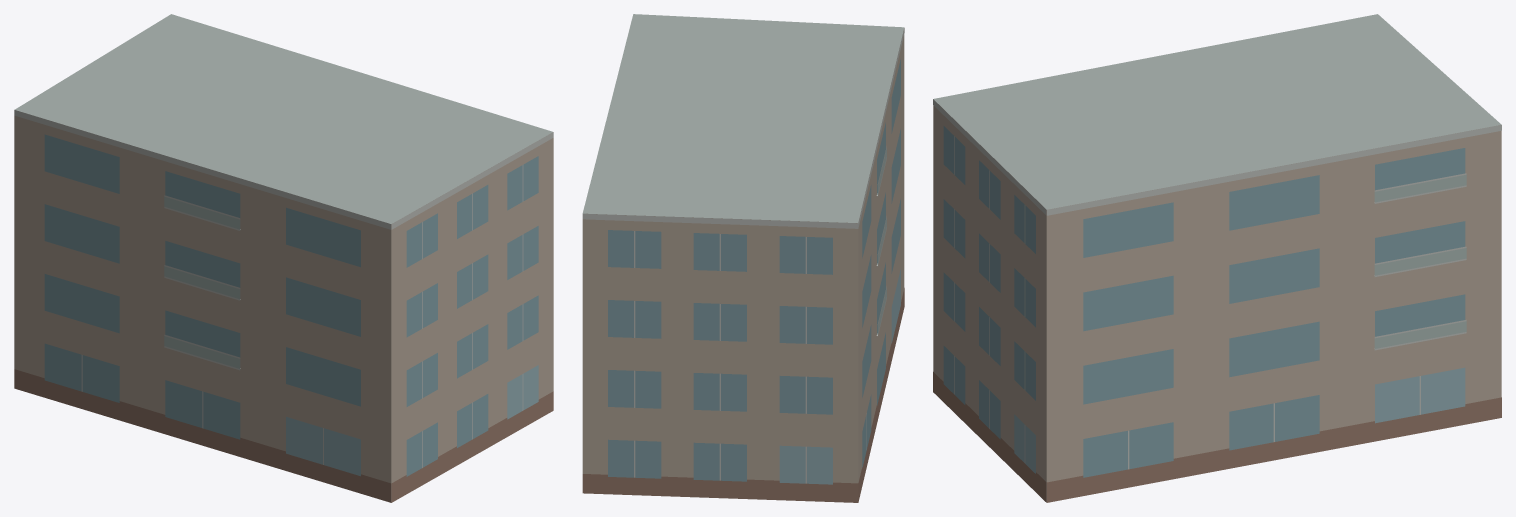
The model's file is survey-upis-32731923.glb.
3 views of the same model, side by side, from view 1: azimuth 30°, elevation 25°; view 2: azimuth 150°, elevation 25°; view 3: azimuth 270°, elevation 25° (orthographic). The views are drawn at different scales.
Parts seen in each view (by area): view 1: survey-upis-32731923.tmp; view 2: survey-upis-32731923.tmp; view 3: survey-upis-32731923.tmp.
Part boxes in pixels (x1,y1,x2,y2): survey-upis-32731923.tmp: (14,14,553,502); survey-upis-32731923.tmp: (582,14,904,502); survey-upis-32731923.tmp: (933,14,1501,502).
Size of the model in its own units: 16.95 by 11.82 by 20.8.
